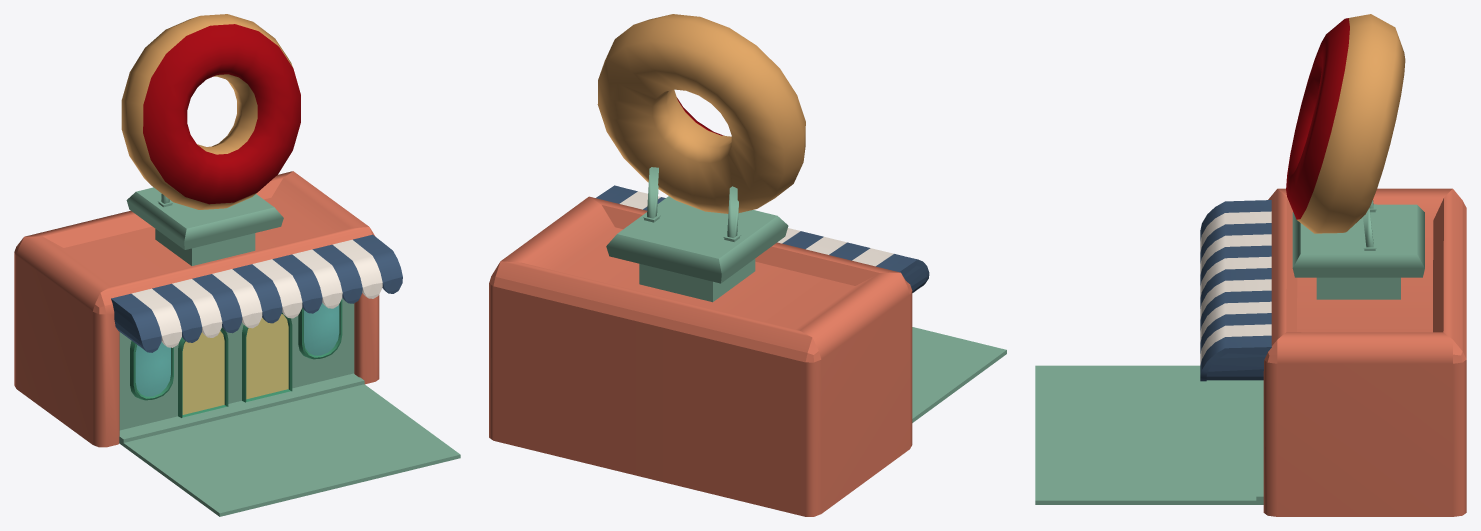
Rendered from SM_Donats3.fbx.
The picture shows the model from 3 angles, left to right: view 1: azimuth 30°, elevation 25°; view 2: azimuth 150°, elevation 25°; view 3: azimuth 270°, elevation 25°; orthographic projection. The views are drawn at different scales.
Parts seen in each view (by area): view 1: SM_Donatus3; view 2: SM_Donatus3; view 3: SM_Donatus3.
Part boxes in pixels (x1,y1,x2,y2): SM_Donatus3: (14, 14, 460, 516); SM_Donatus3: (489, 14, 1006, 516); SM_Donatus3: (1035, 14, 1466, 516).
Bounding box in the file's own units: 922 × 1122 × 1052.
